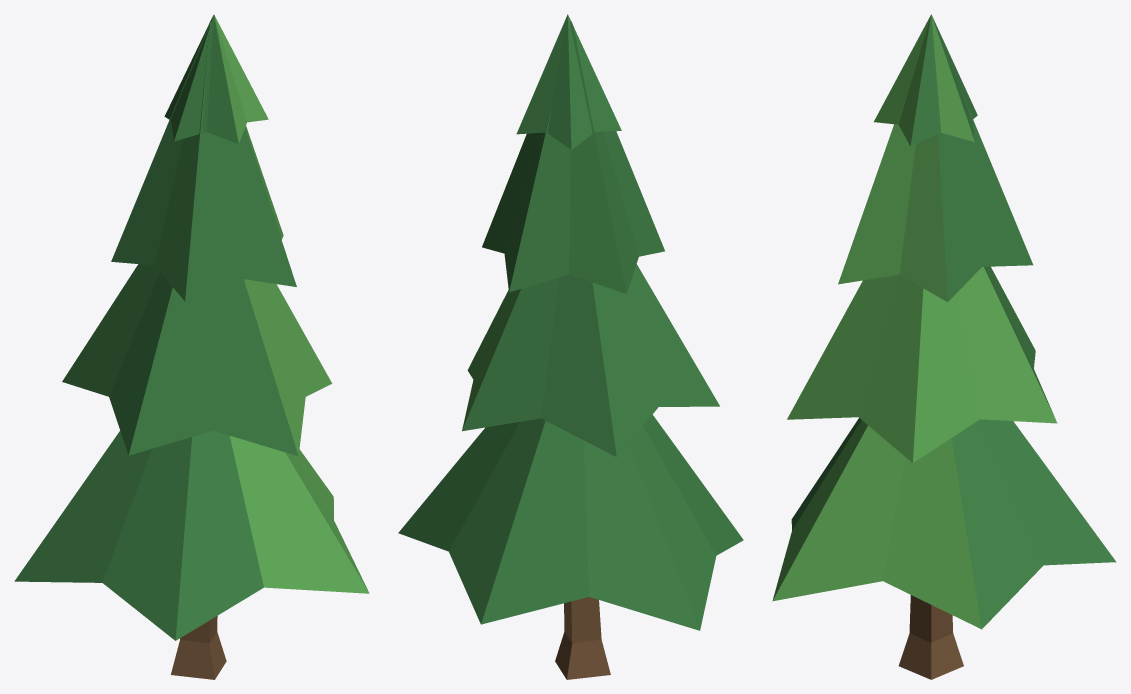
The model's file is tree_pine_b_lod1.glb.
3 views of the same model, side by side, from view 1: azimuth 30°, elevation 25°; view 2: azimuth 150°, elevation 25°; view 3: azimuth 270°, elevation 25° (orthographic).
Parts seen in each view (by area): view 1: tree_pine_b_lod1; view 2: tree_pine_b_lod1; view 3: tree_pine_b_lod1.
Boxes of the visible parts, box(x1,y1,x2,y2) form: tree_pine_b_lod1: box(14, 14, 369, 679); tree_pine_b_lod1: box(398, 14, 743, 679); tree_pine_b_lod1: box(772, 14, 1116, 679).
Size of the model in its own units: 4.5 by 9 by 4.26.
